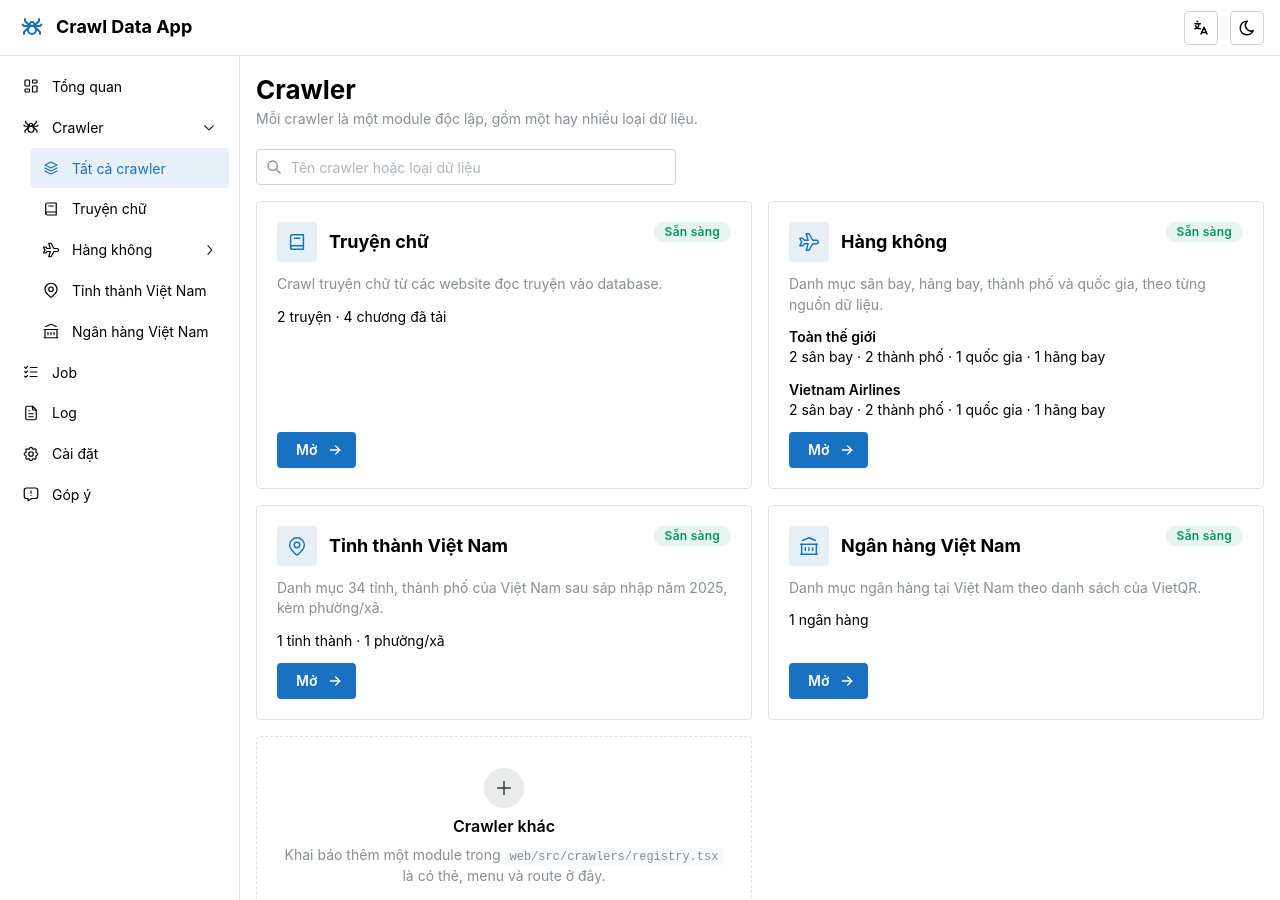
Test: App — khu vực Crawler › nút đổi ngôn ngữ đổi chữ của cả giao diện ngay tại chỗ và nhớ lựa chọn
Expected: the heading "Truyện chữ" is shown, top-left (329, 229), bottom-right (429, 255)
Click the button named "Ngôn ngữ" at (1201, 28), box top-left (1184, 10), bottom-right (1218, 44)
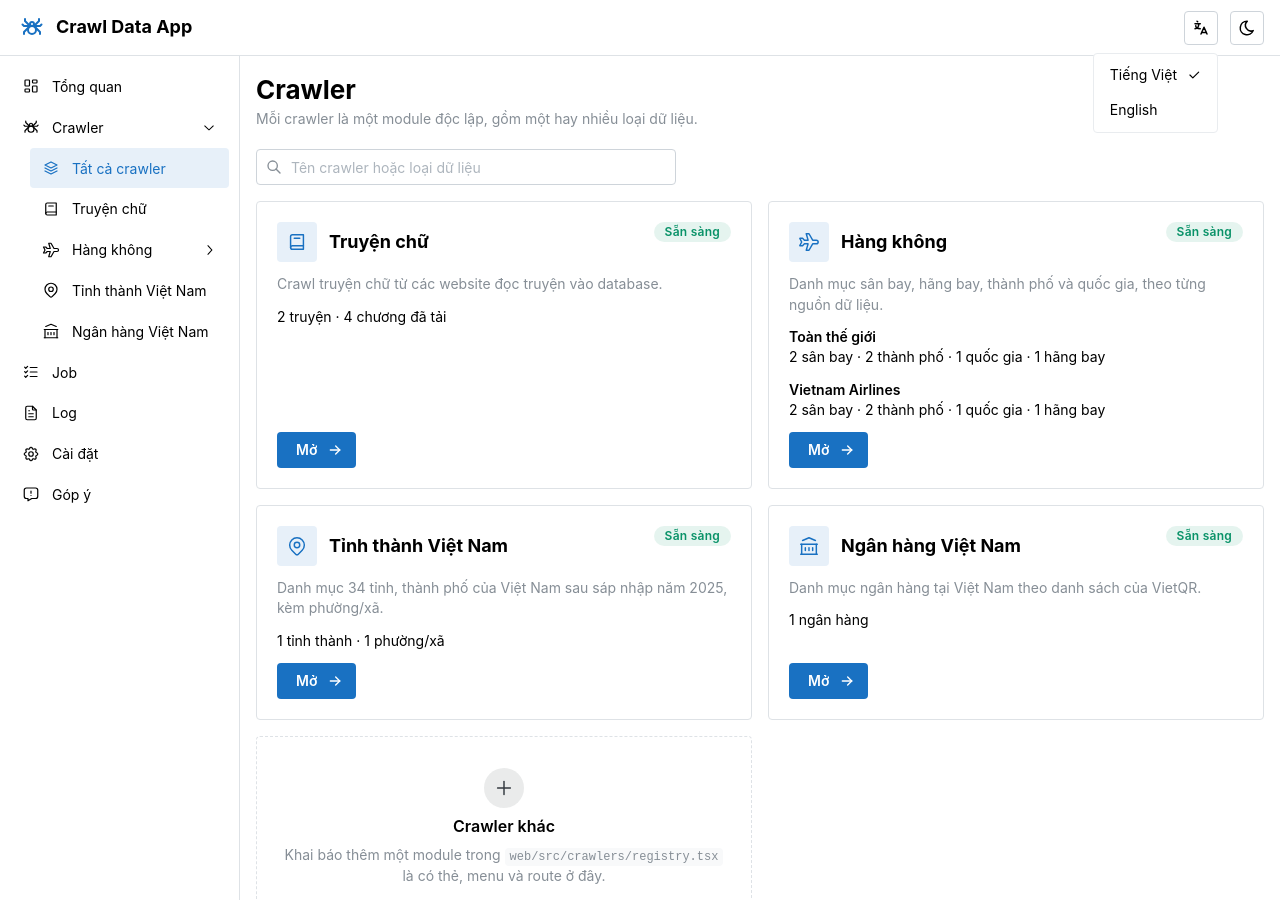
Click the menu item "English" at (1155, 110), box top-left (1098, 92), bottom-right (1213, 128)
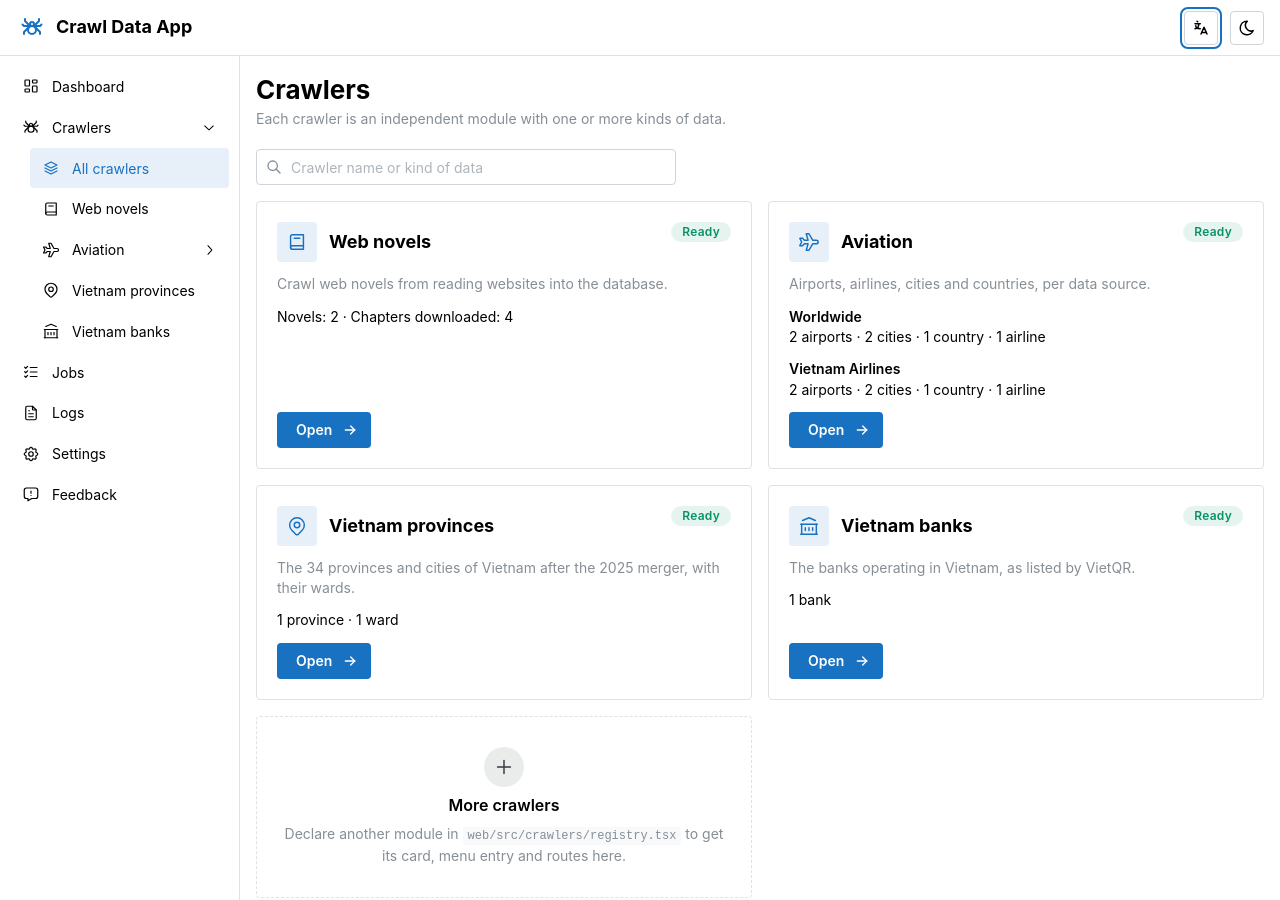
Now the heading "Web novels" is shown, box top-left (329, 229), bottom-right (431, 255)
Now the link with aria-label "Open Aviation" is shown, box top-left (789, 412), bottom-right (883, 448)
Now the link "Dashboard" is shown, box top-left (22, 77), bottom-right (124, 95)
